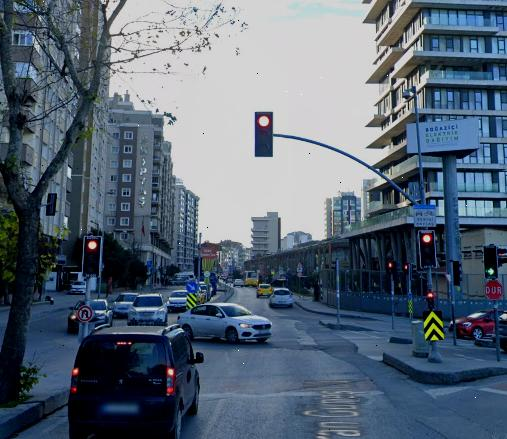redlight: (419, 230, 435, 266), (429, 293, 435, 309)
